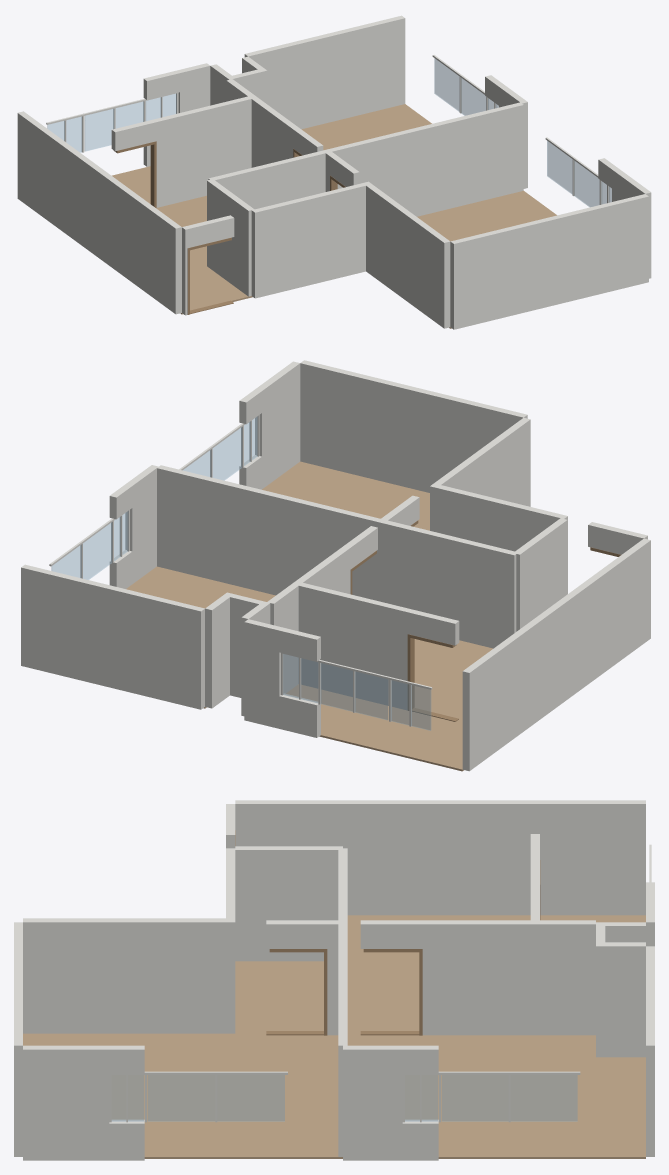
The model's file is high_quality_9803.glb.
3 views of the same model, one above another, from view 1: azimuth 30°, elevation 25°; view 2: azimuth 150°, elevation 25°; view 3: azimuth 270°, elevation 25° (orthographic). The views are drawn at different scales.
Parts seen in each view (by area): view 1: Wall_10_solid, Wall_6_solid, Wall_4_solid, Wall_13_solid, Wall_19_solid, Wall_14_solid, Wall_7_solid, Wall_15_solid, Wall_16_solid, Floor_1_kitchen, Wall_11_solid, Floor_2_hall (+19 smaller); view 2: Wall_4_solid, Wall_6_solid, Wall_10_solid, Wall_13_solid, Wall_15_solid, Wall_14_solid, Floor_3_other, Wall_16_solid, Wall_19_solid, Floor_1_kitchen, Wall_7_solid, Wall_9_solid (+25 smaller); view 3: Floor_1_kitchen, Wall_13_solid, Floor_0_other, Wall_7_solid, Wall_0_solid, Wall_16_solid, Wall_9_solid, Wall_11_solid, Floor_2_hall, Wall_1_solid, Wall_5_solid, Window_7 (+23 smaller).
Boxes of the visible parts, x1,y1,x2,y2 form: Wall_10_solid: (450, 194, 648, 329); Wall_6_solid: (326, 102, 523, 216); Wall_4_solid: (244, 15, 405, 129); Wall_13_solid: (60, 142, 181, 314); Wall_19_solid: (251, 182, 370, 298); Wall_14_solid: (153, 96, 254, 207); Wall_7_solid: (363, 181, 450, 328); Wall_15_solid: (208, 150, 328, 209); Wall_16_solid: (17, 111, 65, 229); Floor_1_kitchen: (417, 190, 556, 328); Wall_11_solid: (207, 179, 254, 296); Floor_2_hall: (156, 195, 251, 314); Wall_4_solid: (21, 564, 204, 709); Wall_6_solid: (157, 465, 381, 601); Wall_10_solid: (300, 360, 527, 492); Wall_13_solid: (511, 538, 650, 735); Wall_15_solid: (380, 520, 516, 648); Wall_14_solid: (298, 583, 411, 710); Floor_3_other: (286, 684, 463, 771); Wall_16_solid: (462, 635, 518, 771); Wall_19_solid: (430, 484, 567, 593); Floor_1_kitchen: (262, 461, 429, 530); Wall_7_solid: (430, 417, 530, 532); Wall_9_solid: (255, 361, 300, 488); Floor_1_kitchen: (23, 1033, 342, 1158); Wall_13_solid: (235, 800, 535, 915); Floor_0_other: (347, 1033, 645, 1158); Wall_7_solid: (23, 918, 235, 1033); Wall_0_solid: (422, 920, 535, 1035); Wall_16_solid: (535, 800, 645, 915); Wall_9_solid: (23, 1045, 109, 1160); Wall_11_solid: (235, 846, 342, 961); Floor_2_hall: (347, 915, 530, 1033); Wall_1_solid: (535, 920, 595, 1035); Wall_5_solid: (343, 1045, 402, 1160); Window_7: (147, 1075, 284, 1121).
Size of the model in its own units: 12.97 by 2.75 by 14.1.
